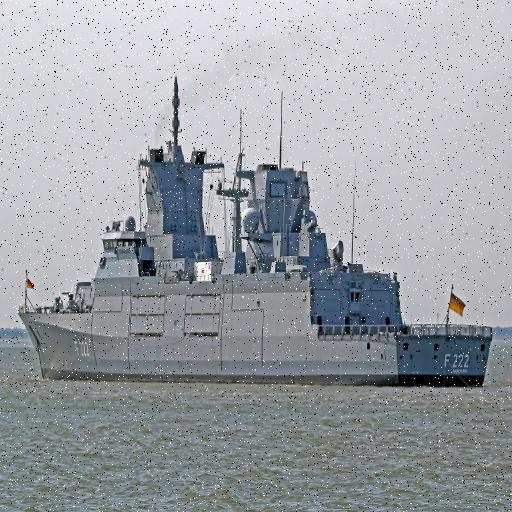Fragata: (19, 74, 494, 390)
